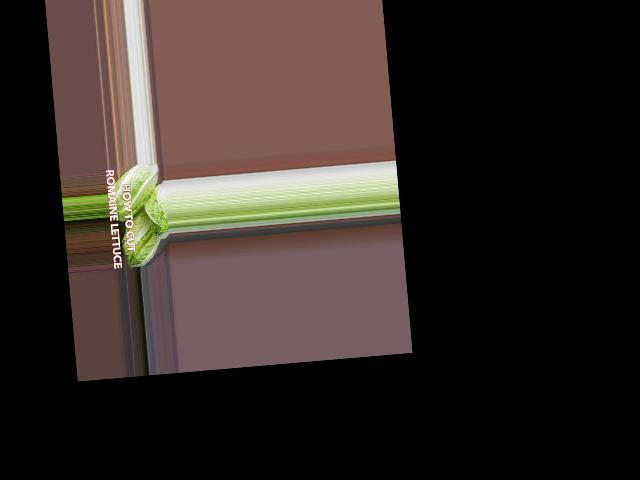lettuce: (114, 202, 166, 271)
